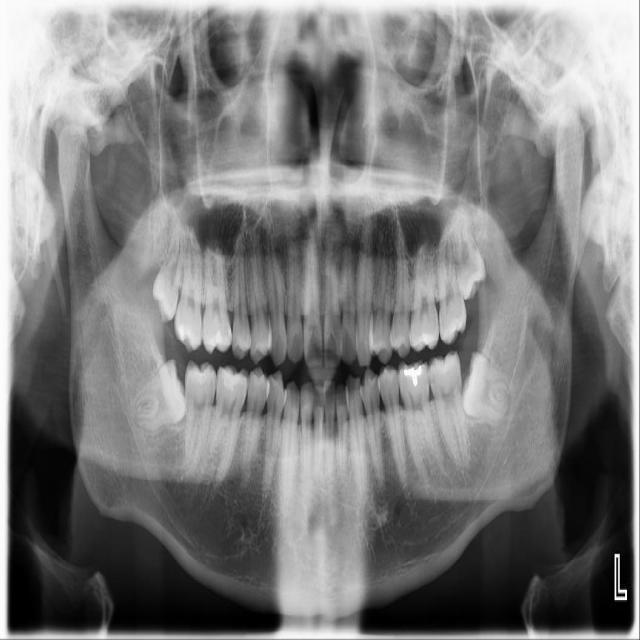Filling: (219, 369, 249, 395), (177, 316, 201, 346), (399, 365, 424, 390), (206, 330, 230, 354)
Periapical lesion: (374, 480, 390, 509)
impacted tooth: (153, 209, 188, 320), (464, 352, 515, 427), (135, 361, 187, 428), (452, 207, 485, 297)
